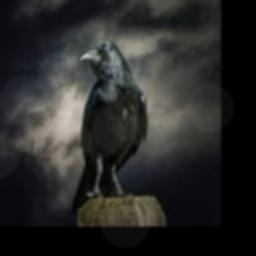Crow: (71, 41, 147, 210)
